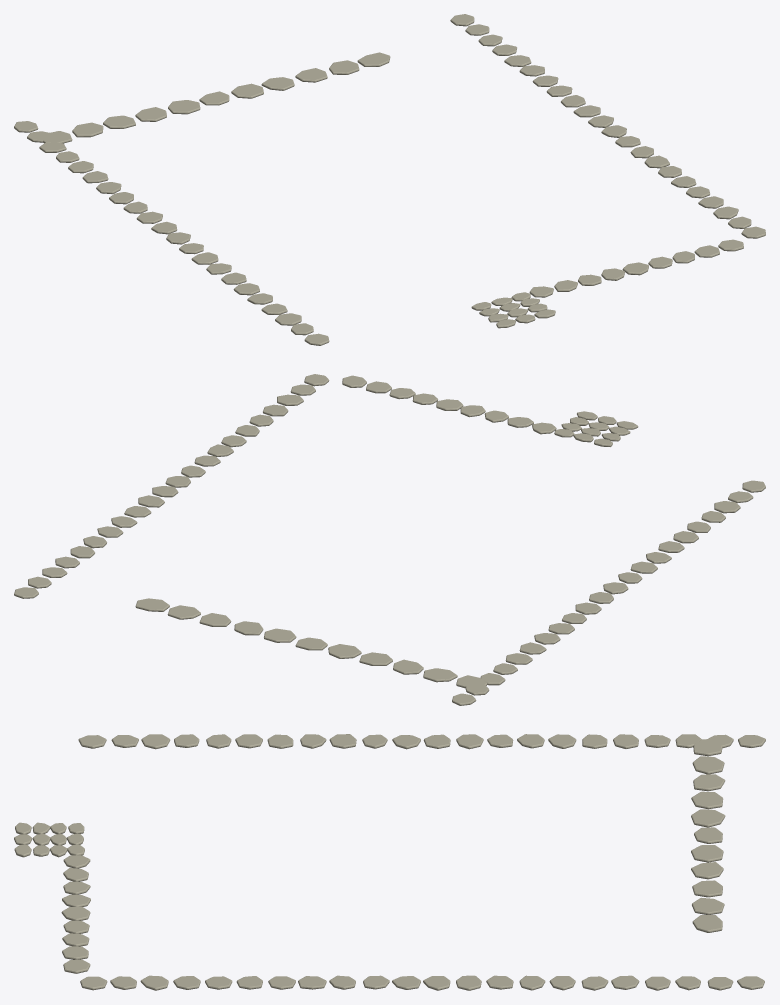
Rendered from SM_HippieCoupleHouse_Pathways.fbx.
3 views of the same model, one above another, from view 1: azimuth 30°, elevation 25°; view 2: azimuth 150°, elevation 25°; view 3: azimuth 270°, elevation 25° (orthographic). The views are drawn at different scales.
Visible parts, largest first — view 1: no part large enough to name; view 2: no part large enough to name; view 3: EXPORT_Irregular limestone paving.060, EXPORT_Irregular limestone paving.062, EXPORT_Irregular limestone paving.057, EXPORT_Irregular limestone paving.059, EXPORT_Irregular limestone paving.065, EXPORT_Irregular limestone paving.058, EXPORT_Irregular limestone paving.066, EXPORT_Irregular limestone paving.064.
Boxes of the visible parts, x1,y1,x2,y2 form: EXPORT_Irregular limestone paving.060: [691, 809, 725, 827]; EXPORT_Irregular limestone paving.062: [691, 845, 723, 862]; EXPORT_Irregular limestone paving.057: [692, 756, 724, 774]; EXPORT_Irregular limestone paving.059: [691, 791, 723, 809]; EXPORT_Irregular limestone paving.065: [692, 897, 724, 914]; EXPORT_Irregular limestone paving.058: [693, 774, 725, 791]; EXPORT_Irregular limestone paving.066: [692, 915, 722, 932]; EXPORT_Irregular limestone paving.064: [692, 880, 722, 897].
Bounding box in the file's own units: 1269 × 1583 × 6.5.
